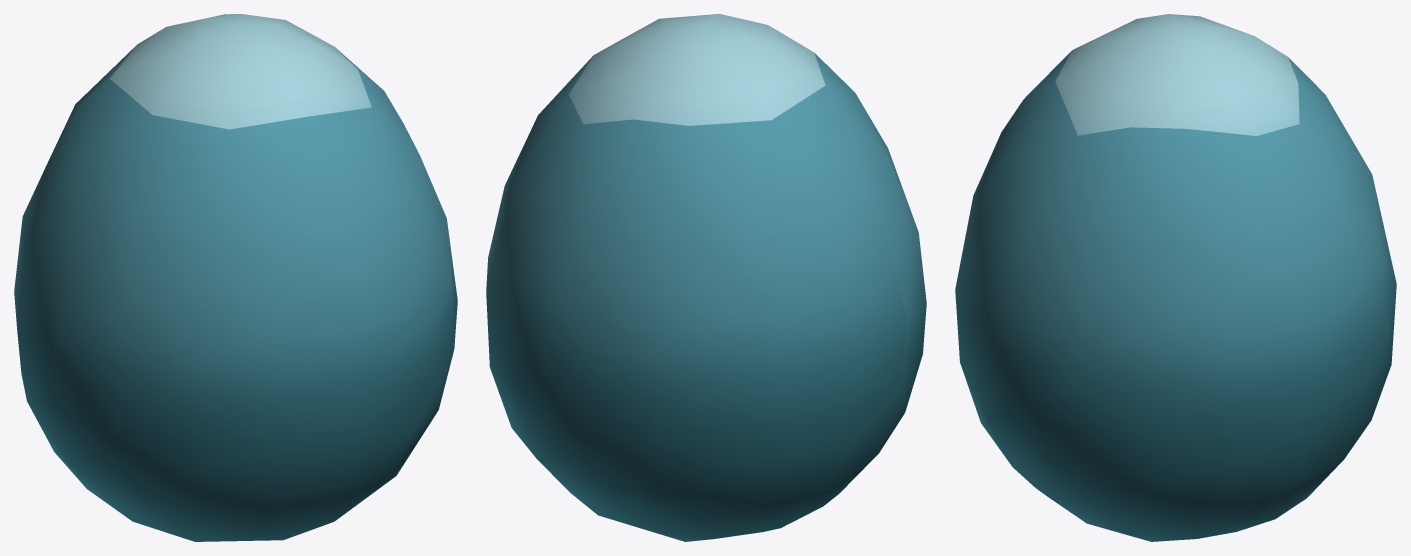
The model's file is BossEgg.obj.
3 views of the same model, side by side, from view 1: azimuth 30°, elevation 25°; view 2: azimuth 150°, elevation 25°; view 3: azimuth 270°, elevation 25° (orthographic).
Visible parts, largest first — view 1: 球.004; view 2: 球.004; view 3: 球.004.
Boxes of the visible parts, x1,y1,x2,y2 form: 球.004: (14,14,457,541); 球.004: (486,14,926,541); 球.004: (955,14,1396,541).
Size of the model in its own units: 3 by 3.7 by 3.
